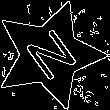N_SE: (17, 22, 82, 87)
